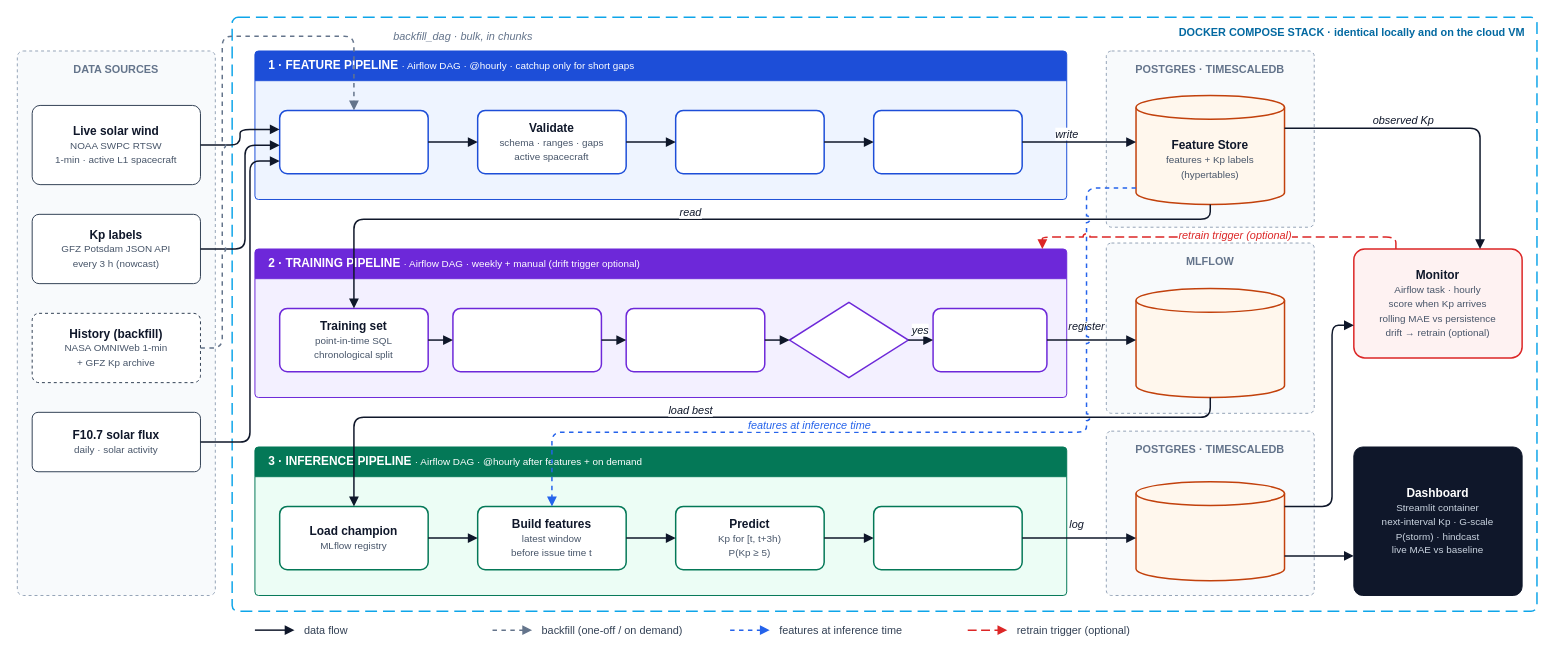
This 1555x657 diagram has some shape labels left out. The shapes that lost their labels are listed below. From the top down, each one's centre as x and y in pixels, then its label:
At (x=353, y=141): "Fetch RTSW · Kp · F10.7".
At (x=749, y=141): "Engineer features L1→Earth time shift 1/3/6 h windows".
At (x=947, y=141): "Write hypertables + Kp labels".
At (x=527, y=339): "Train GBDT, e.g. LightGBM regressor + storm classifier".
At (x=695, y=339): "Evaluate MAE vs persistence storm recall / precision".
At (x=848, y=339): "beats champion?".
At (x=989, y=339): "Register new champion".
At (x=1210, y=342): "Model Registry runs · metrics versioned models".
At (x=947, y=537): "Log prediction + model version".
At (x=1210, y=530): "Prediction Log forecasts to score".
